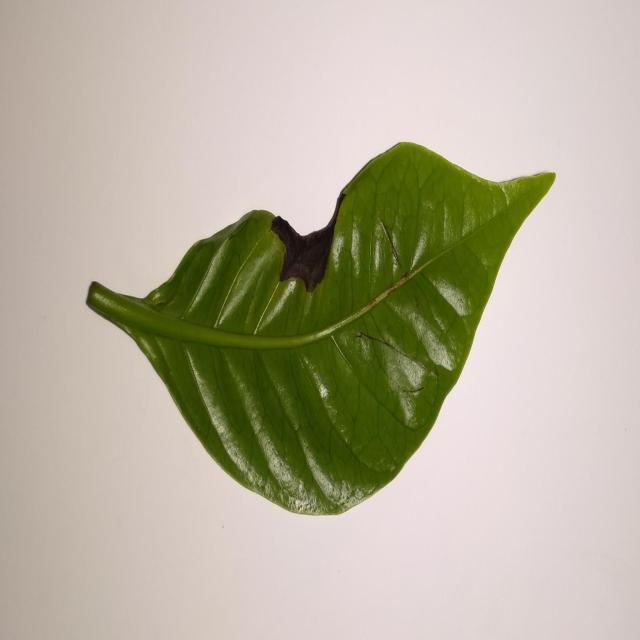Enfermedad-Antracnosis: (84, 142, 557, 520)
